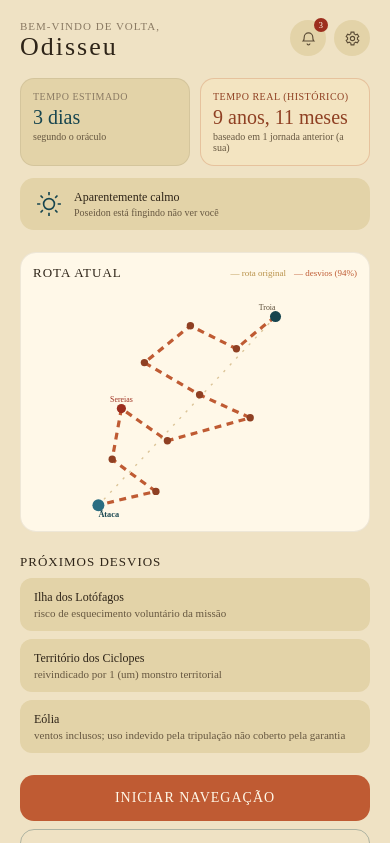
HomeScreen › abre o dropdown de notificações ao tocar no sino
Click the button named "Notificações, 3 novas" at (308, 38), box [290,20,326,56]
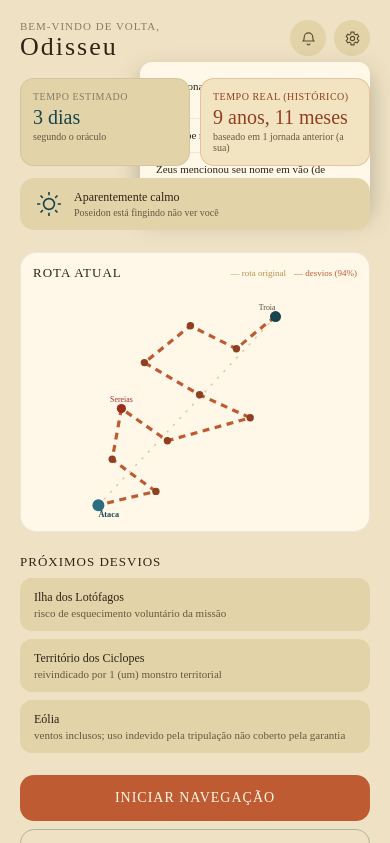
Result: the text "Nova zona de perigo detectada a 40m da rota." is shown at [148,70,362,119]
